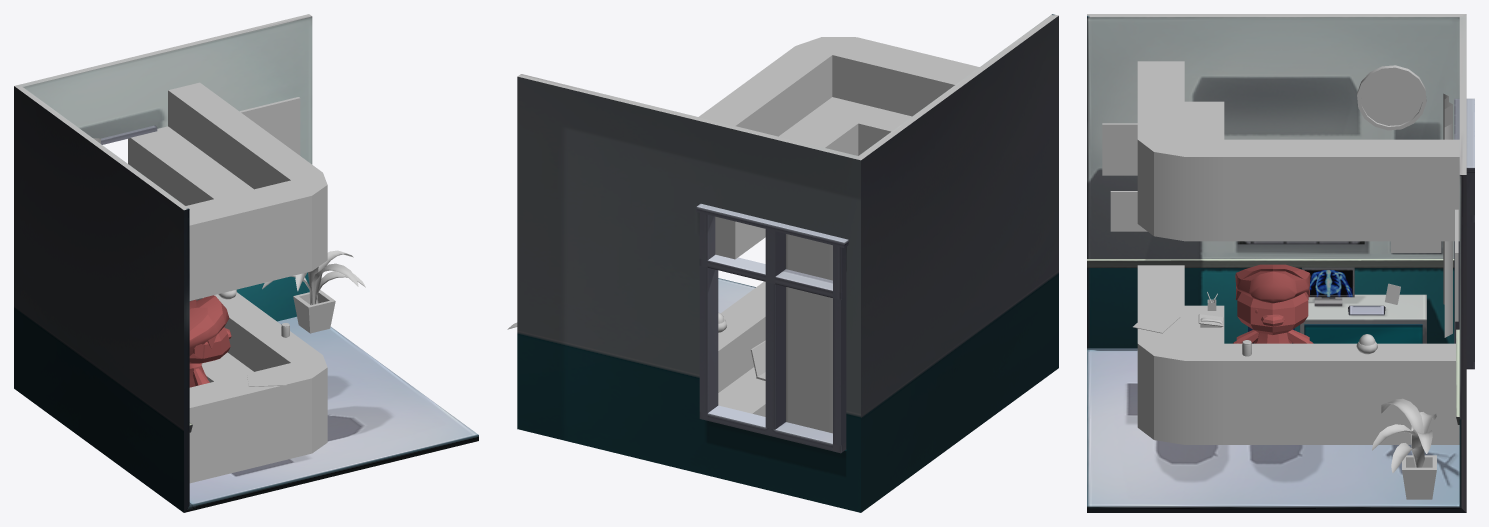
File: Hospital_Nurse_Receptionist_updated.fbx
3 views of the same model, side by side, from view 1: azimuth 30°, elevation 25°; view 2: azimuth 150°, elevation 25°; view 3: azimuth 270°, elevation 25° (orthographic). The views are drawn at different scales.
Parts seen in each view (by area): view 1: polySurface355, polySurface369, group_pasted__hand2_pasted__pCylinder9; view 2: polySurface355, polySurface369; view 3: polySurface355, polySurface369, group_pasted__hand2_pasted__pCylinder9.
Boxes of the visible parts, box(x1,y1,x2,y2) form: polySurface355: box(14, 14, 478, 512); polySurface369: box(93, 82, 365, 483); group_pasted__hand2_pasted__pCylinder9: box(189, 295, 231, 387); polySurface355: box(517, 14, 1058, 512); polySurface369: box(507, 37, 979, 433); polySurface355: box(1087, 14, 1474, 512); polySurface369: box(1102, 61, 1459, 499); group_pasted__hand2_pasted__pCylinder9: box(1233, 264, 1313, 343).
Size of the model in its own units: 24.81 by 22.3 by 23.18.
